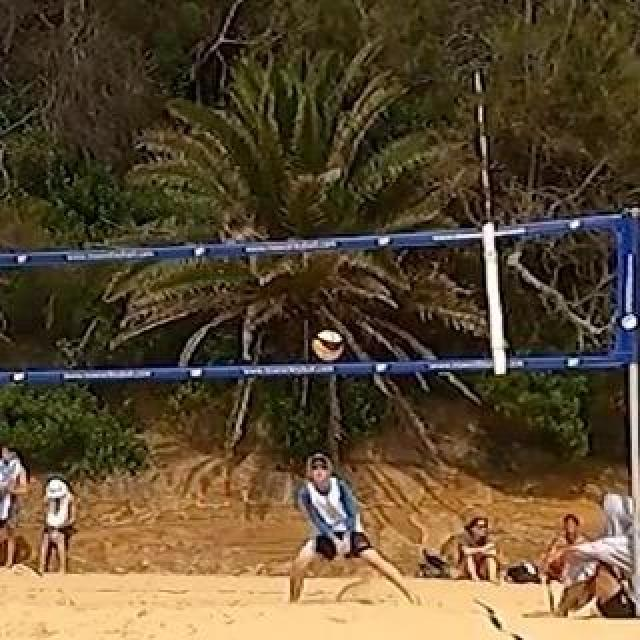volleyball: (311, 330, 343, 362)
